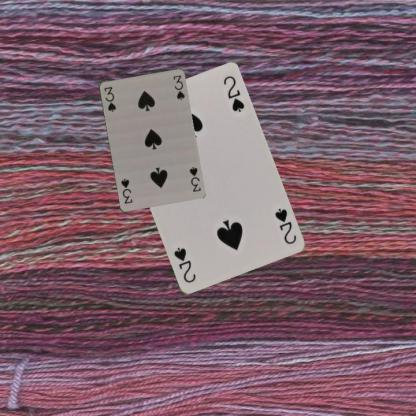2s: (272, 206, 298, 246)
3s: (186, 164, 202, 193), (102, 84, 116, 112)
